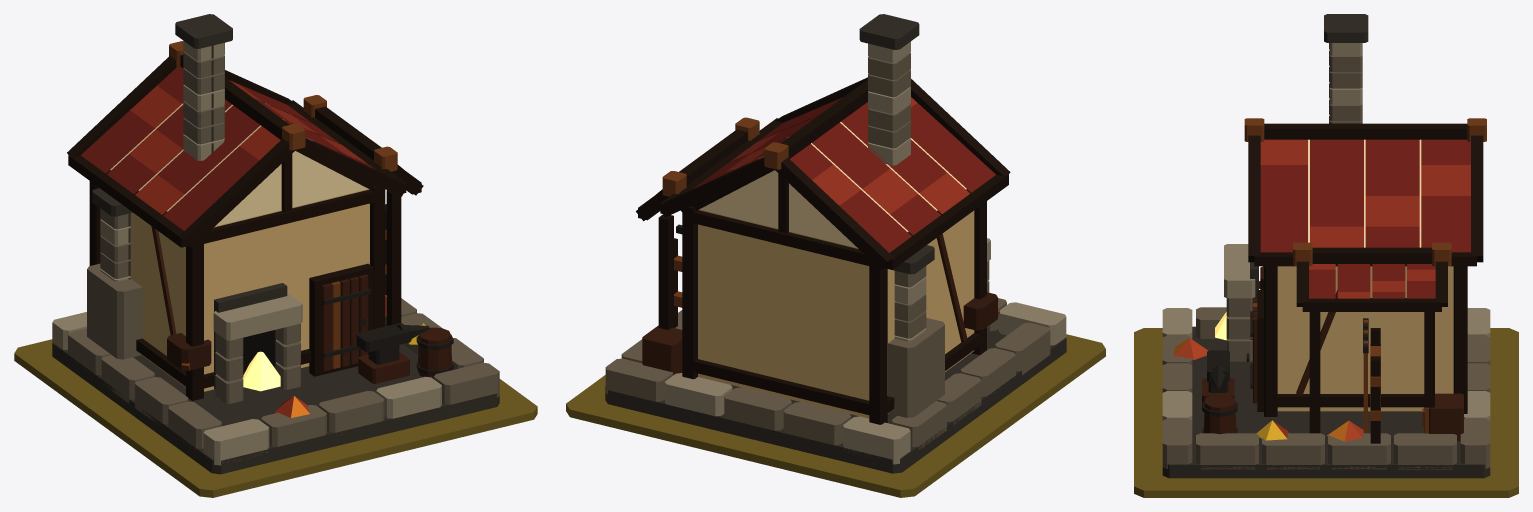
File: forge_t4.glb
3 renders of one model, left to right at view 1: azimuth 30°, elevation 25°; view 2: azimuth 150°, elevation 25°; view 3: azimuth 270°, elevation 25°, orthographic. The views are drawn at different scales.
Visible parts, largest first — view 1: MMR | forge | T04 Architecture.001, MMR | forge | Tier 04 Ground.001, MMR | forge | T04 Flame Glow.001, MMR | forge | T04 Autumn Dressing.001; view 2: MMR | forge | T04 Architecture.001, MMR | forge | Tier 04 Ground.001; view 3: MMR | forge | T04 Architecture.001, MMR | forge | Tier 04 Ground.001, MMR | forge | T04 Autumn Dressing.001.
Part boxes in pixels (box(x1,y1,x2,y2)): MMR | forge | T04 Architecture.001: box(52, 14, 499, 474); MMR | forge | Tier 04 Ground.001: box(14, 339, 537, 497); MMR | forge | T04 Flame Glow.001: box(242, 351, 280, 391); MMR | forge | T04 Autumn Dressing.001: box(274, 295, 425, 417); MMR | forge | T04 Architecture.001: box(605, 14, 1066, 473); MMR | forge | Tier 04 Ground.001: box(566, 334, 1105, 497); MMR | forge | T04 Architecture.001: box(1162, 14, 1490, 478); MMR | forge | Tier 04 Ground.001: box(1134, 328, 1518, 497); MMR | forge | T04 Autumn Dressing.001: box(1173, 338, 1363, 441).
Size of the model in its own units: 2.35 by 2.45 by 2.35.
2 materials, 1 textured.
